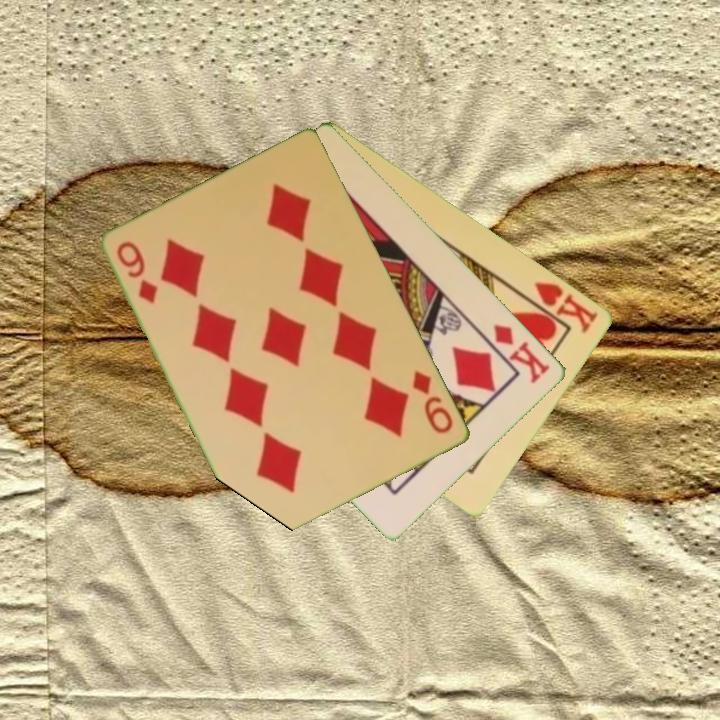9d: (113, 238, 162, 307), (409, 367, 457, 437)
Kd: (490, 320, 554, 387)
Kh: (520, 278, 602, 336)
